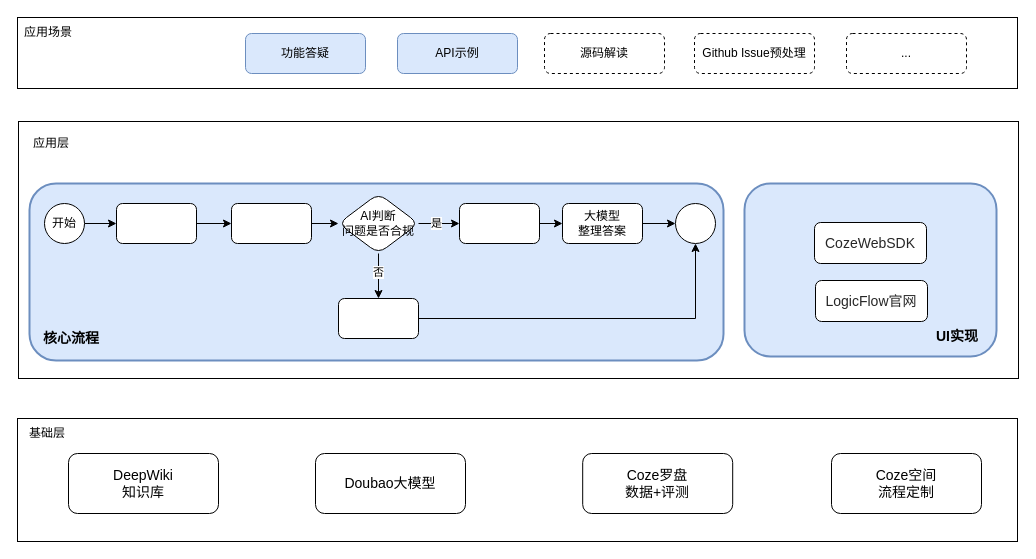
This 1036x559 diagram has some shape labels left out. Here are the shapes that lost their labels. From the top down, the centre of each, then its label:
At (x=156, y=223): "用户提问".
At (x=271, y=223): "意图识别".
At (x=499, y=223): "从DeepWiki 读取答案".
At (x=695, y=223): "结束".
At (x=378, y=318): "兜底回复".
